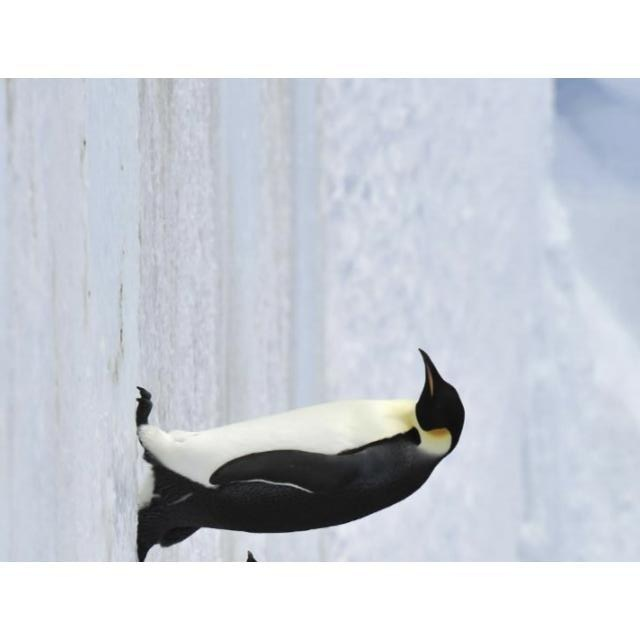penguin: (132, 346, 468, 560)
